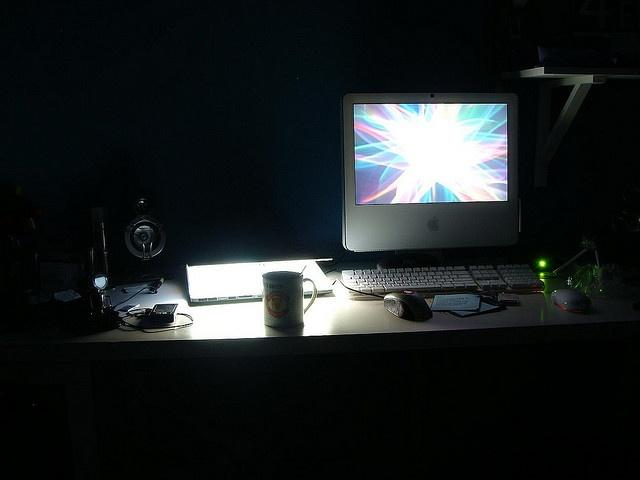AIO PC-Monitor-TV: (340, 91, 520, 252)
